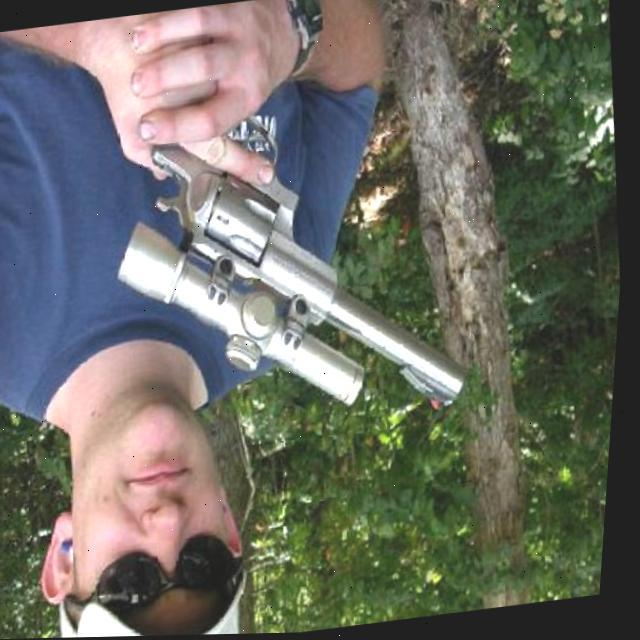gun: (130, 85, 490, 453)
